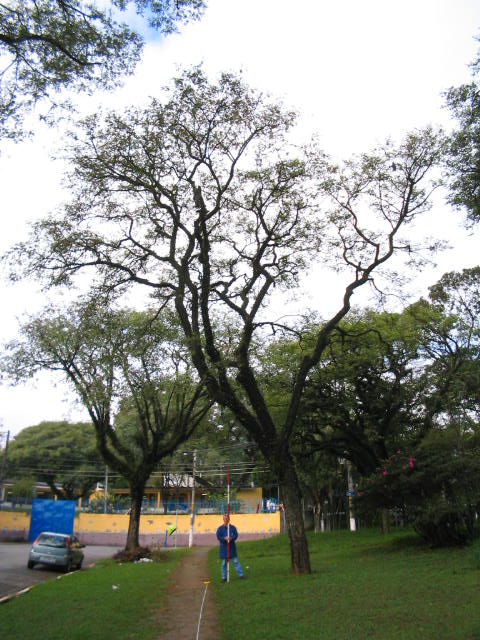crown: (6, 69, 452, 329), (5, 285, 214, 425)
stem: (259, 456, 325, 573), (109, 484, 153, 563)
stick: (223, 466, 236, 582)
tree: (3, 65, 453, 574), (6, 282, 216, 563)
